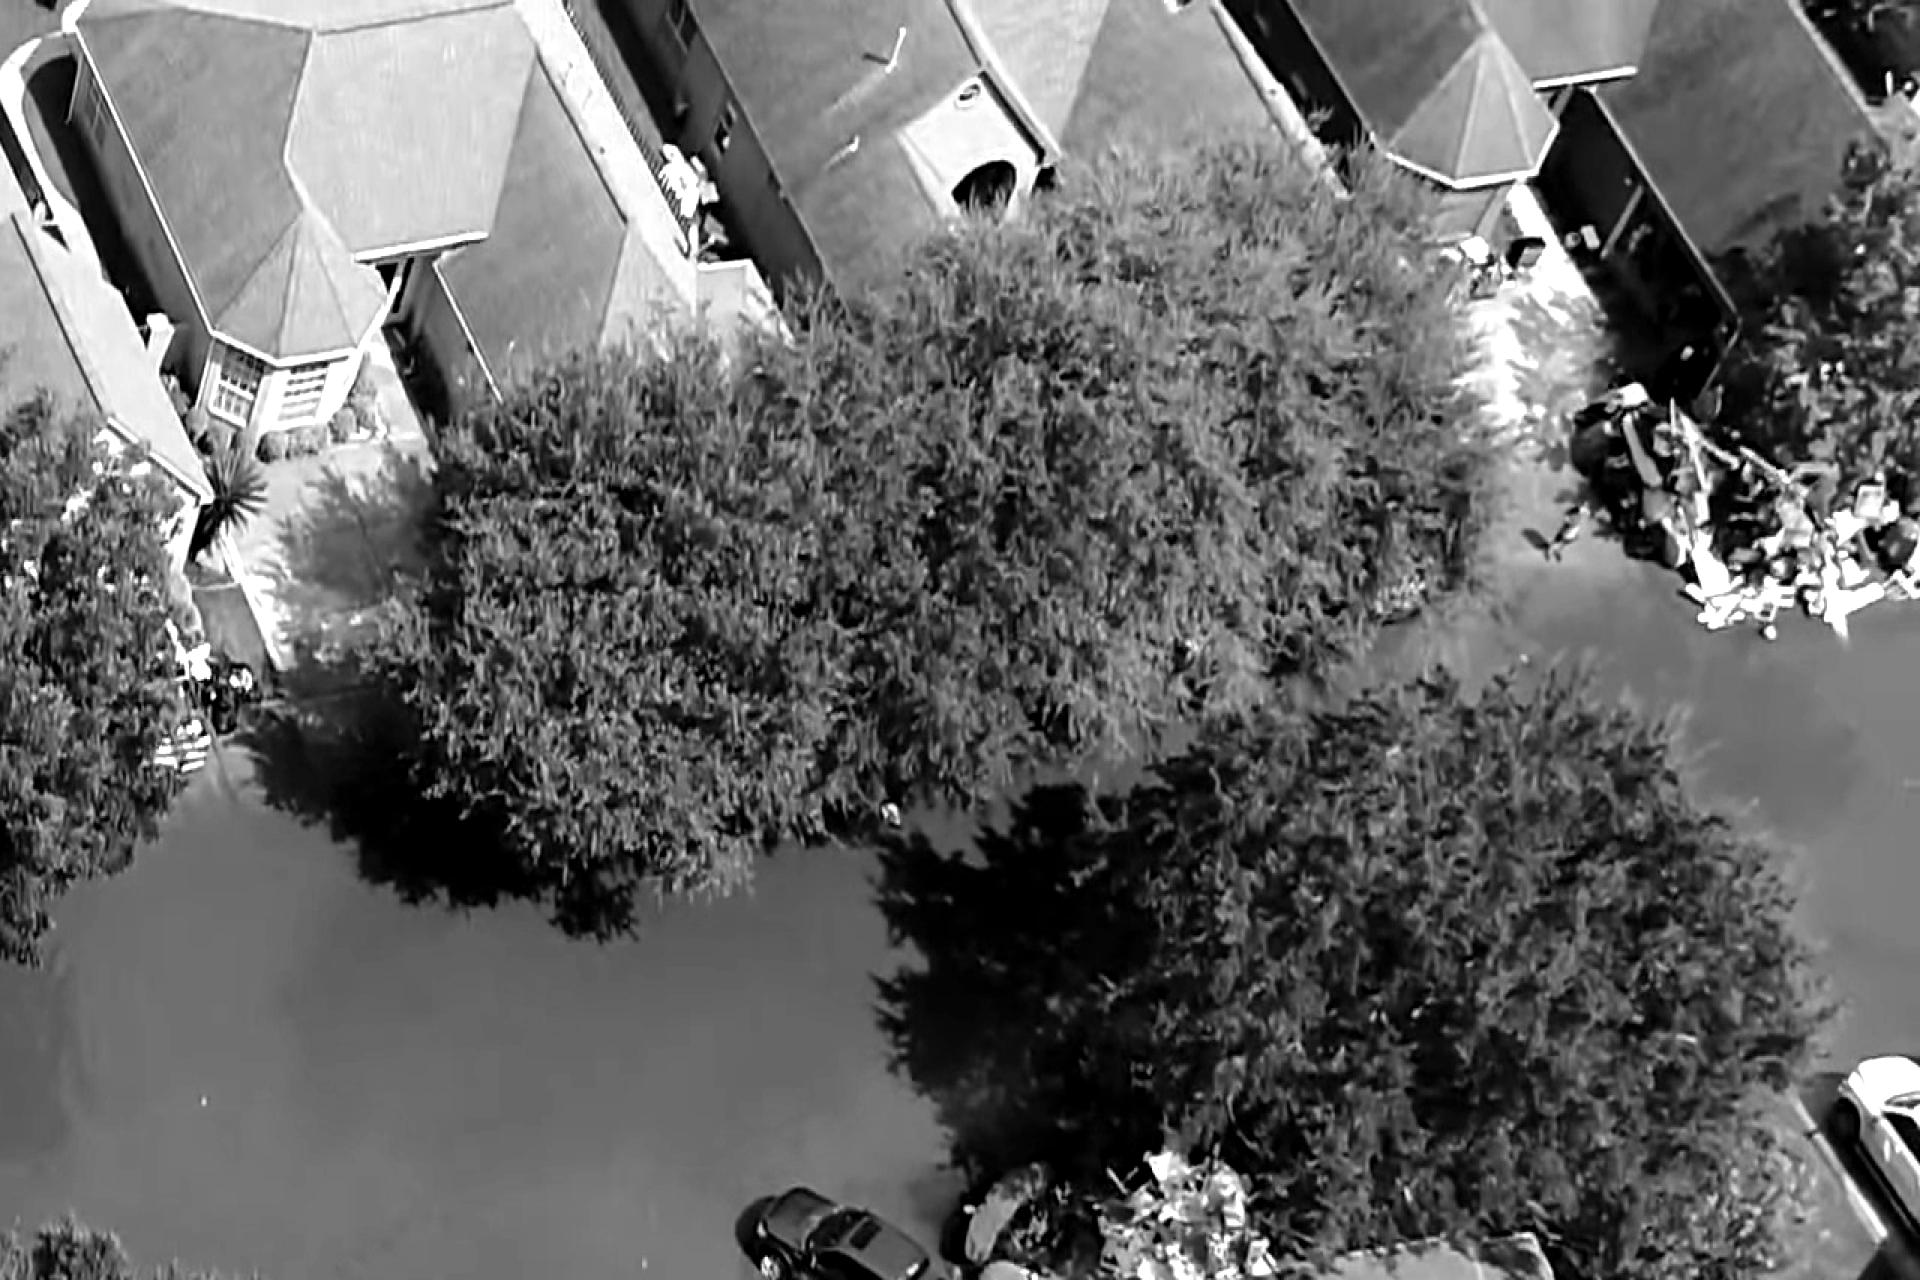House: (46, 0, 799, 433), (1293, 0, 1901, 309), (684, 0, 1328, 283), (0, 0, 224, 564), (1011, 1207, 1920, 1280)
Vehicle: (741, 1178, 996, 1280)
